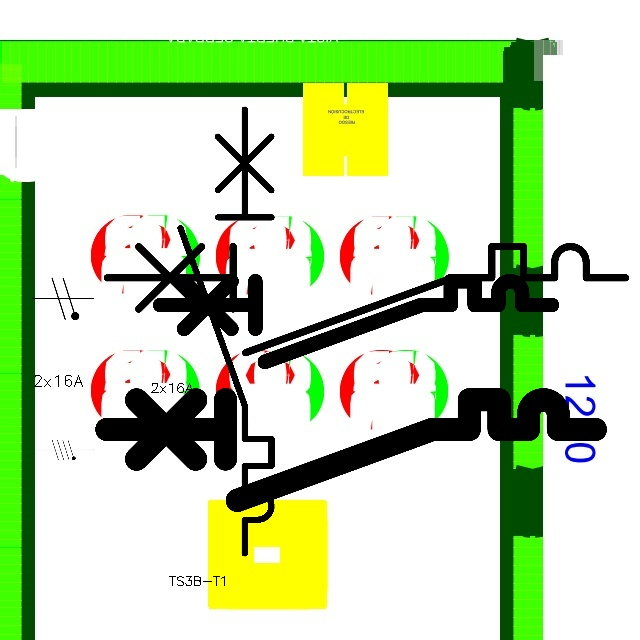interruptor_termomagnetico: (93, 233, 638, 366), (94, 387, 608, 513), (169, 98, 283, 565), (150, 271, 562, 372)
